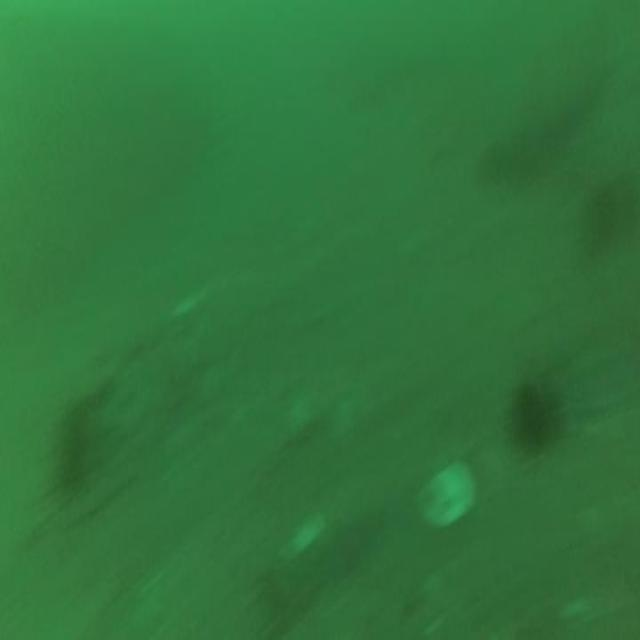echinus: (506, 368, 554, 462), (54, 408, 92, 490)
scallop: (414, 453, 476, 538)
